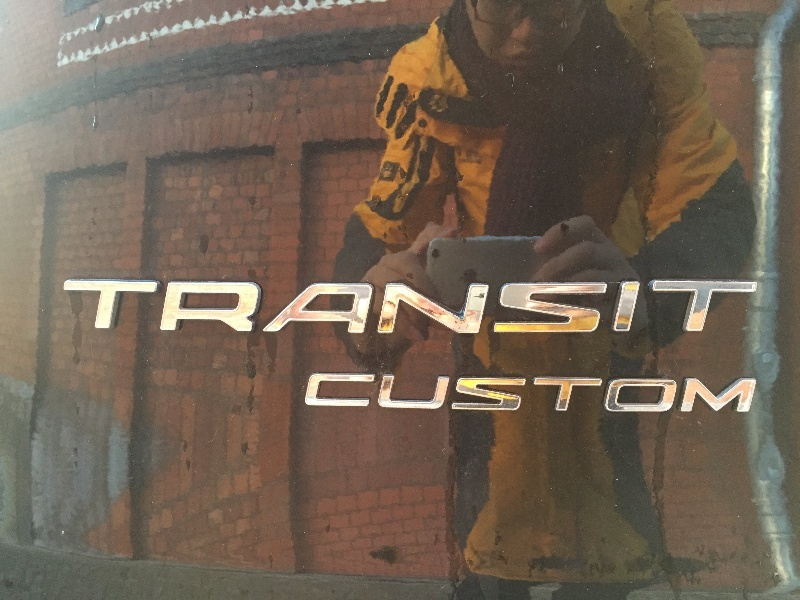text: (65, 280, 80, 337), (81, 280, 96, 337), (97, 280, 112, 337), (113, 280, 128, 337), (129, 280, 144, 337), (145, 280, 160, 337), (161, 280, 176, 337), (177, 280, 192, 337), (193, 280, 208, 337), (209, 280, 224, 337), (225, 280, 240, 337), (241, 280, 256, 337), (257, 280, 272, 337), (273, 280, 288, 337), (289, 280, 304, 337), (305, 280, 320, 337), (321, 280, 336, 337), (337, 280, 352, 337), (353, 280, 368, 337), (369, 280, 384, 337), (385, 280, 400, 337), (401, 280, 416, 337), (417, 280, 432, 337), (433, 280, 448, 337), (449, 280, 464, 337), (465, 280, 480, 337), (481, 280, 496, 337), (497, 280, 512, 337), (513, 280, 528, 337), (529, 280, 544, 337), (545, 280, 560, 337), (561, 280, 576, 337), (577, 280, 592, 337), (593, 280, 608, 337), (609, 280, 624, 337), (625, 280, 640, 337), (641, 280, 656, 337), (657, 280, 672, 337), (673, 280, 688, 337), (689, 280, 704, 337), (705, 280, 720, 337), (721, 280, 736, 337), (737, 280, 752, 337), (321, 372, 336, 416), (337, 372, 352, 416), (353, 372, 368, 416), (369, 372, 384, 416), (385, 372, 400, 416), (401, 372, 416, 416), (417, 372, 432, 416), (433, 372, 448, 416), (449, 372, 464, 416), (465, 372, 480, 416), (481, 372, 496, 416), (497, 372, 512, 416), (513, 372, 528, 416), (529, 372, 544, 416), (545, 372, 560, 416), (561, 372, 576, 416), (577, 372, 592, 416), (593, 372, 608, 416), (609, 372, 624, 416), (625, 372, 640, 416), (641, 372, 656, 416), (657, 372, 672, 416), (673, 372, 688, 416), (689, 372, 704, 416), (705, 372, 720, 416), (721, 372, 736, 416), (737, 372, 752, 416), (753, 280, 764, 337), (311, 372, 320, 416), (753, 372, 759, 416)
